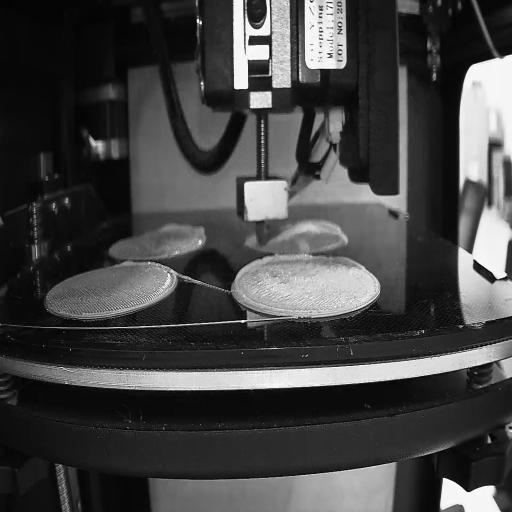over_extrusion: (234, 251, 312, 314), (272, 220, 346, 244), (156, 219, 206, 238), (333, 252, 364, 270), (114, 259, 136, 269)
